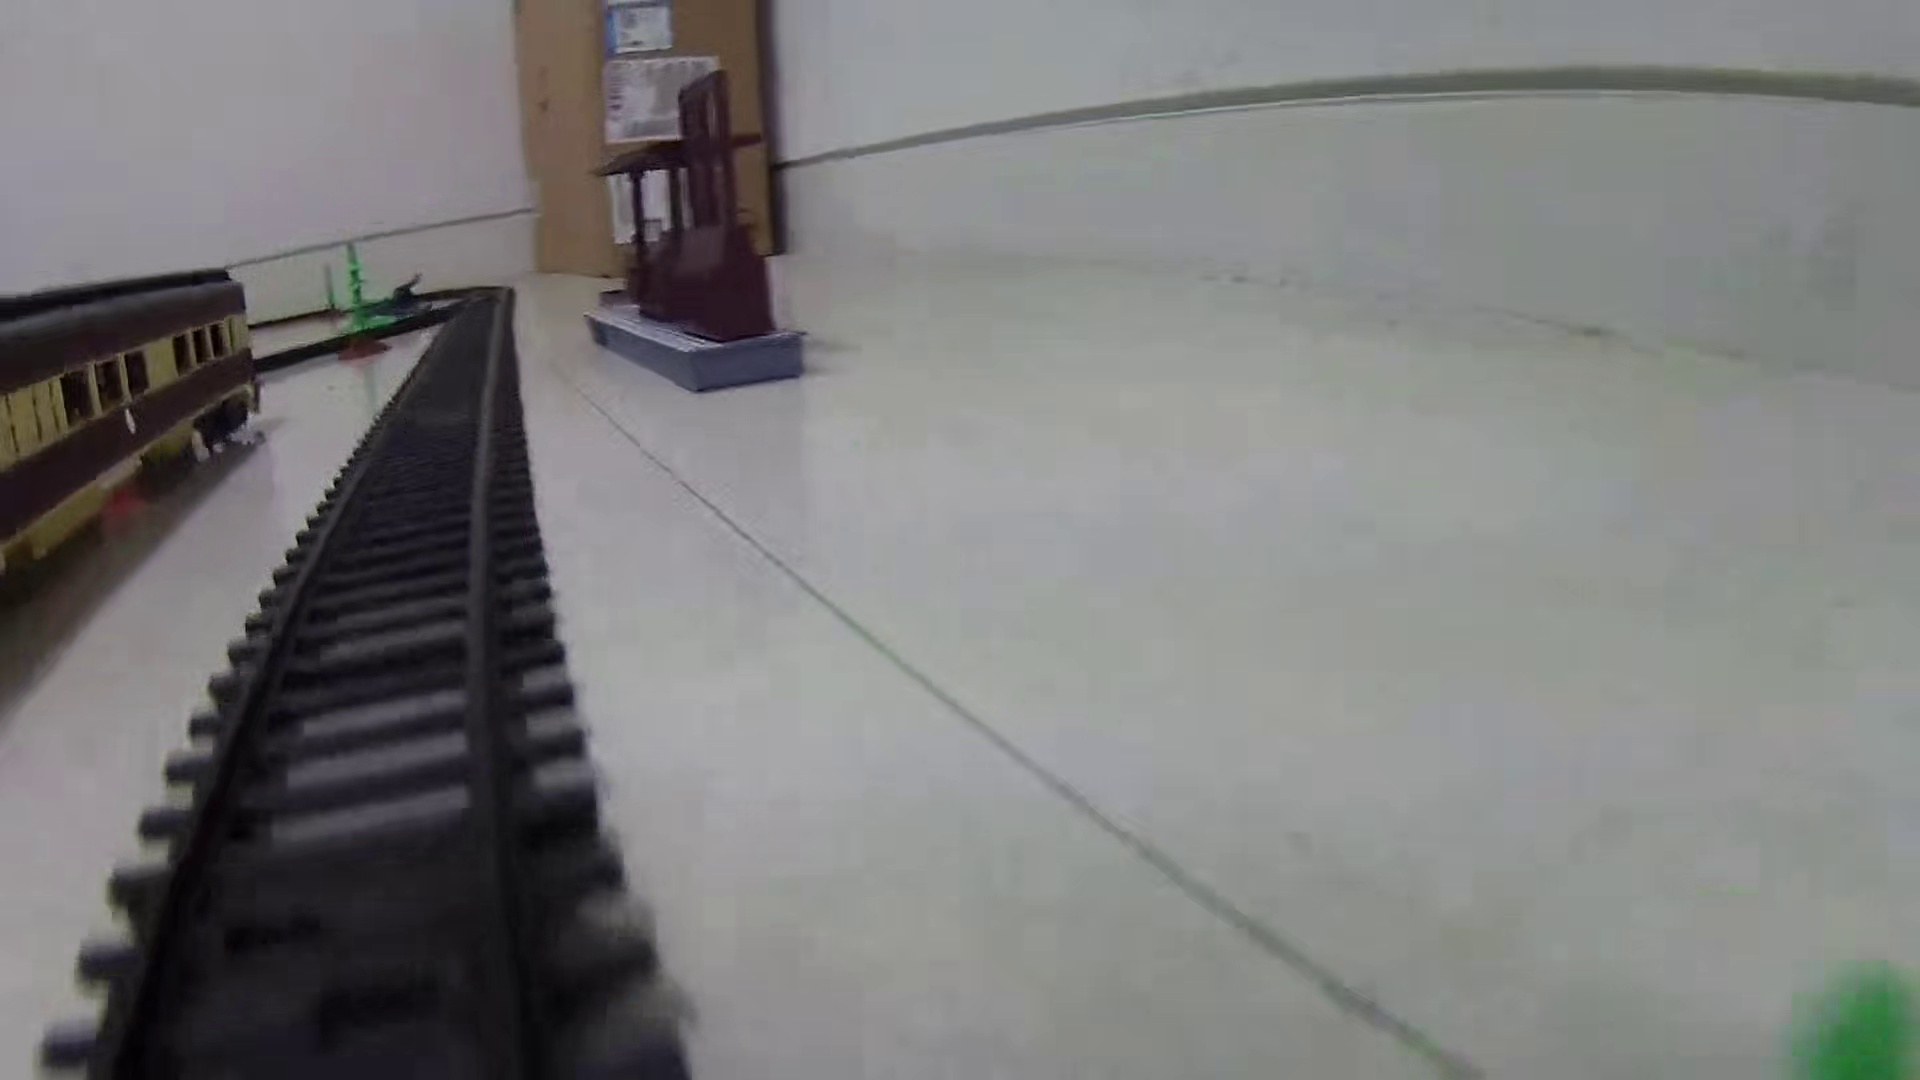tree: (336, 241, 394, 363)
